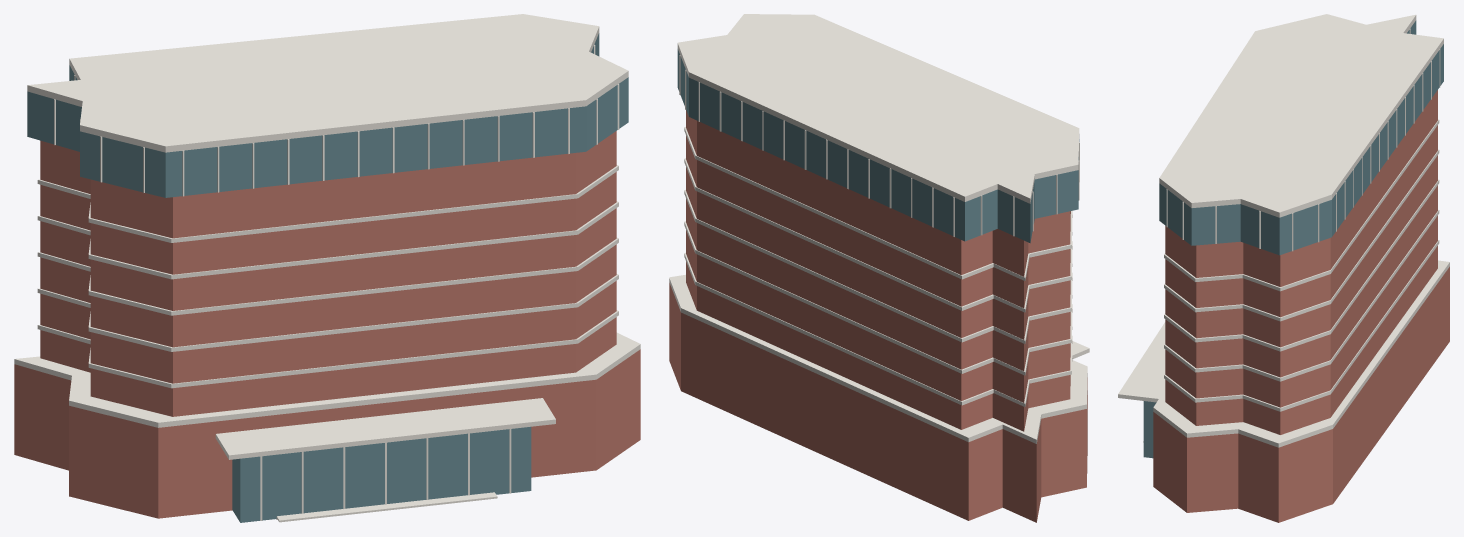
The model's file is choi.glb.
3 renders of one model, left to right at view 1: azimuth 30°, elevation 25°; view 2: azimuth 150°, elevation 25°; view 3: azimuth 270°, elevation 25°, orthographic. The views are drawn at different scales.
Parts seen in each view (by area): view 1: CHK_tower, CHK_roof, CHK_podium, CHK_crown, CHK_atrium, CHK_canopy, CHK_podium_band, CHK_band_2, CHK_band_3, CHK_band_4, CHK_band_1, CHK_band_0 (+1 smaller); view 2: CHK_tower, CHK_roof, CHK_podium, CHK_crown, CHK_podium_band, CHK_band_4, CHK_band_0, CHK_band_2, CHK_band_1, CHK_band_3; view 3: CHK_tower, CHK_roof, CHK_podium, CHK_crown, CHK_podium_band, CHK_canopy, CHK_band_4, CHK_band_0, CHK_band_3, CHK_band_2, CHK_band_1, CHK_atrium.
Part boxes in pixels (bbox=[...]): CHK_tower: bbox=[40, 131, 616, 416]; CHK_roof: bbox=[27, 14, 628, 152]; CHK_podium: bbox=[14, 349, 640, 518]; CHK_crown: bbox=[27, 33, 628, 197]; CHK_atrium: bbox=[232, 426, 531, 522]; CHK_canopy: bbox=[215, 398, 555, 459]; CHK_podium_band: bbox=[14, 332, 640, 427]; CHK_band_2: bbox=[37, 237, 618, 315]; CHK_band_3: bbox=[37, 201, 618, 279]; CHK_band_4: bbox=[37, 165, 618, 242]; CHK_band_1: bbox=[37, 274, 618, 351]; CHK_band_0: bbox=[37, 310, 618, 388]; CHK_tower: bbox=[686, 110, 1070, 431]; CHK_roof: bbox=[677, 14, 1079, 203]; CHK_podium: bbox=[669, 283, 1087, 522]; CHK_crown: bbox=[677, 49, 1079, 243]; CHK_podium_band: bbox=[669, 274, 1087, 443]; CHK_band_4: bbox=[684, 127, 1072, 280]; CHK_band_0: bbox=[684, 252, 1072, 406]; CHK_band_2: bbox=[684, 190, 1072, 343]; CHK_band_1: bbox=[684, 221, 1072, 375]; CHK_band_3: bbox=[684, 158, 1072, 312]; CHK_tower: bbox=[1165, 90, 1437, 434]; CHK_roof: bbox=[1159, 14, 1443, 217]; CHK_podium: bbox=[1153, 266, 1449, 522]; CHK_crown: bbox=[1159, 20, 1443, 255]; CHK_podium_band: bbox=[1153, 260, 1449, 447]; CHK_canopy: bbox=[1118, 322, 1165, 402]; CHK_band_4: bbox=[1164, 119, 1439, 291]; CHK_band_0: bbox=[1164, 240, 1439, 411]; CHK_band_3: bbox=[1164, 149, 1439, 321]; CHK_band_2: bbox=[1164, 179, 1439, 351]; CHK_band_1: bbox=[1164, 210, 1439, 381]; CHK_atrium: bbox=[1143, 401, 1156, 458].
Size of the model in its own units: 47.16 by 32.55 by 31.98.
